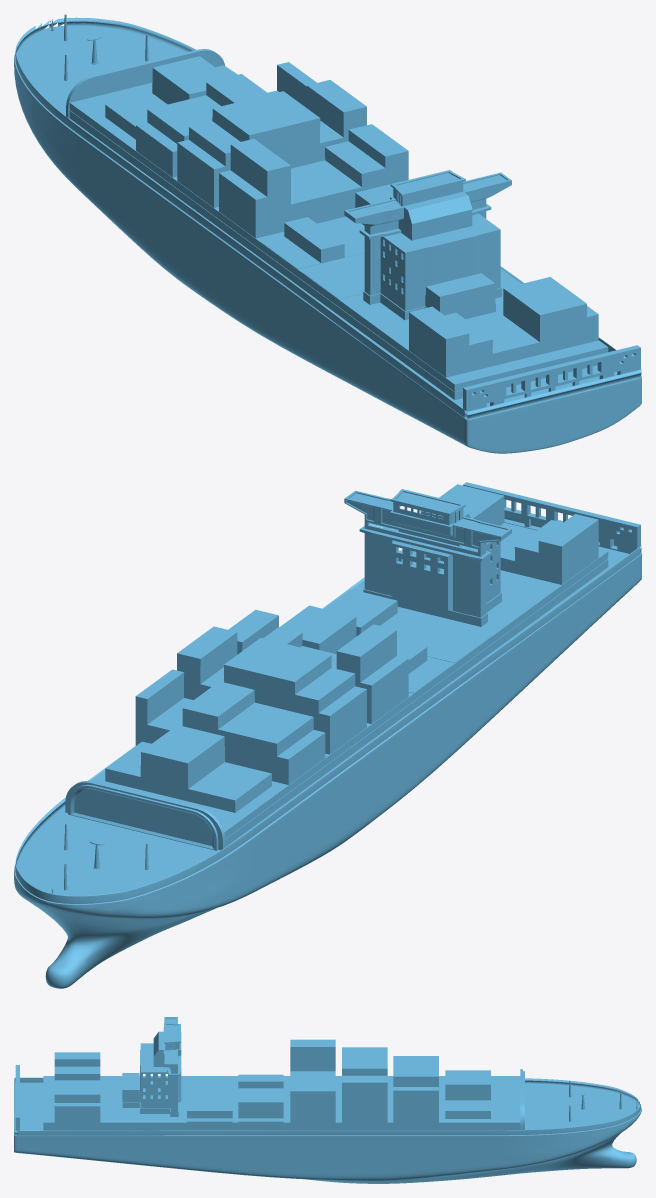
The model's file is ship3old.gltf.
3 renders of one model, top to bottom at view 1: azimuth 30°, elevation 25°; view 2: azimuth 150°, elevation 25°; view 3: azimuth 270°, elevation 25°, orthographic. The views are drawn at different scales.
Visible parts, largest first — view 1: obj01, obj02, Line002, Line005, Line004, Line003, Line001, Line007, Line006; view 2: obj01, obj02, Line005, Line003, Line007, Line004, Line002, Line006, Line001; view 3: obj01, obj02, Line002, Line005, Line004, Line003, Line001, Line007, Line006.
Part boxes in pixels (left/top/right/bottom): obj01: left=14, top=17, right=641, bottom=453; obj02: left=39, top=14, right=640, bottom=411; Line002: left=219, top=124, right=408, bottom=238; Line005: left=177, top=80, right=366, bottom=207; Line004: left=409, top=277, right=598, bottom=377; Line003: left=136, top=62, right=316, bottom=177; Line001: left=261, top=181, right=401, bottom=268; Line007: left=105, top=56, right=237, bottom=139; Line006: left=302, top=257, right=364, bottom=299; obj01: left=14, top=513, right=641, bottom=988; obj02: left=20, top=482, right=640, bottom=893; Line005: left=177, top=626, right=366, bottom=754; Line003: left=135, top=669, right=325, bottom=784; Line007: left=105, top=725, right=271, bottom=812; Line004: left=420, top=484, right=598, bottom=584; Line002: left=228, top=609, right=408, bottom=723; Line006: left=324, top=589, right=491, bottom=662; Line001: left=280, top=605, right=450, bottom=693; obj01: left=14, top=1077, right=641, bottom=1183; obj02: left=15, top=1017, right=639, bottom=1133; Line002: left=290, top=1039, right=335, bottom=1122; Line005: left=342, top=1047, right=387, bottom=1122; Line004: left=54, top=1052, right=100, bottom=1122; Line003: left=393, top=1056, right=438, bottom=1122; Line001: left=238, top=1074, right=283, bottom=1122; Line007: left=445, top=1070, right=490, bottom=1118; Line006: left=187, top=1076, right=232, bottom=1122.
Bounding box in the file's own units: 7.92 × 9.8 × 39.46.
